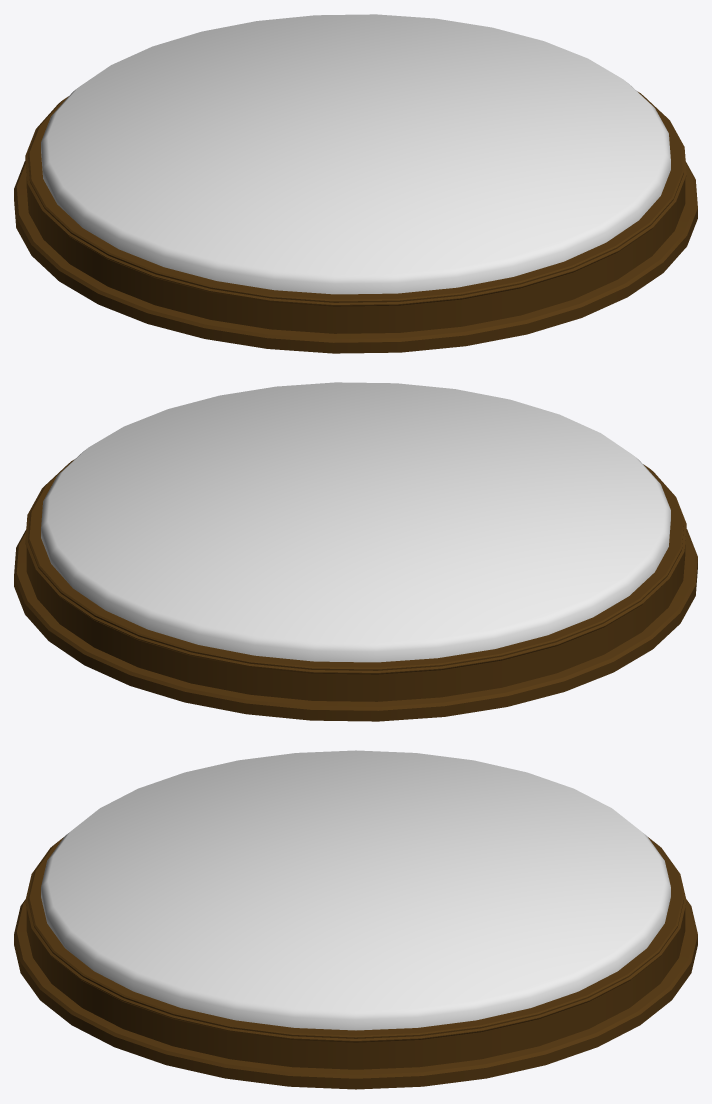
Rendered from PawnRound.fbx.
3 views of the same model, one above another, from view 1: azimuth 30°, elevation 25°; view 2: azimuth 150°, elevation 25°; view 3: azimuth 270°, elevation 25° (orthographic).
Parts seen in each view (by area): view 1: Cylinder.001, Cylinder; view 2: Cylinder.001, Cylinder; view 3: Cylinder.001, Cylinder.
Part boxes in pixels (x1,y1,x2,y2): Cylinder.001: (41, 14, 670, 294); Cylinder: (14, 91, 697, 353); Cylinder.001: (41, 382, 670, 662); Cylinder: (14, 459, 697, 721); Cylinder.001: (41, 750, 670, 1030); Cylinder: (14, 837, 697, 1089).
Size of the model in its own units: 200 by 20.74 by 200.
